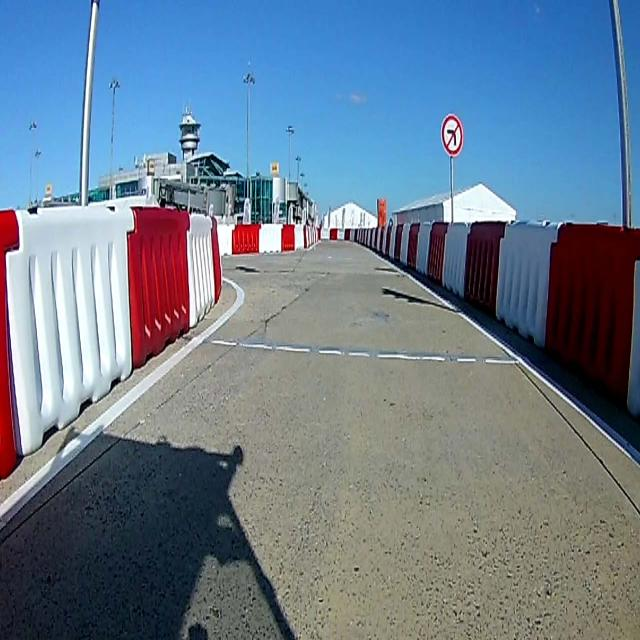soladonulmez: (441, 112, 464, 155)
